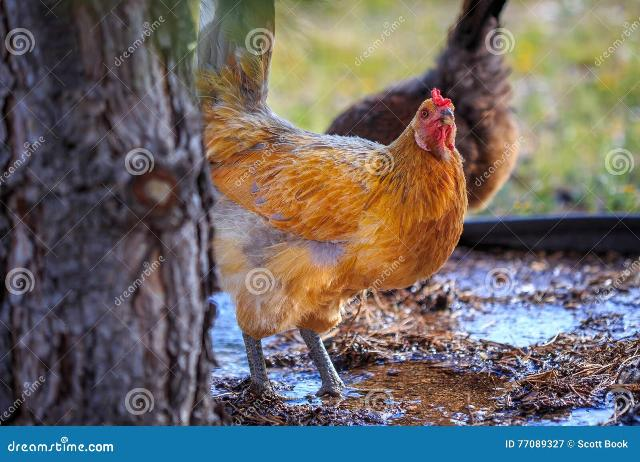Chicken: (200, 1, 469, 397), (324, 0, 518, 214)
